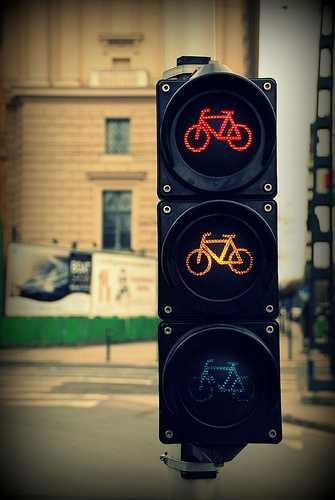green: (169, 315, 276, 444)
red: (168, 75, 268, 194)
